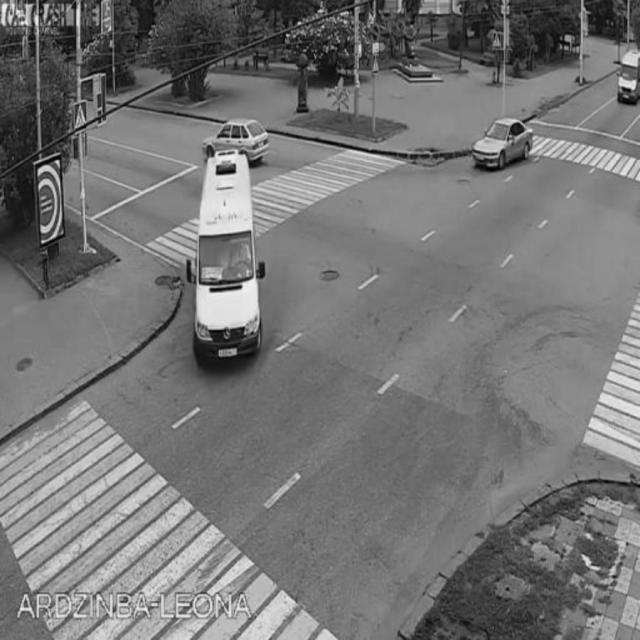vehicle: (192, 154, 258, 354), (473, 112, 534, 173), (212, 116, 270, 168), (616, 53, 638, 107)
